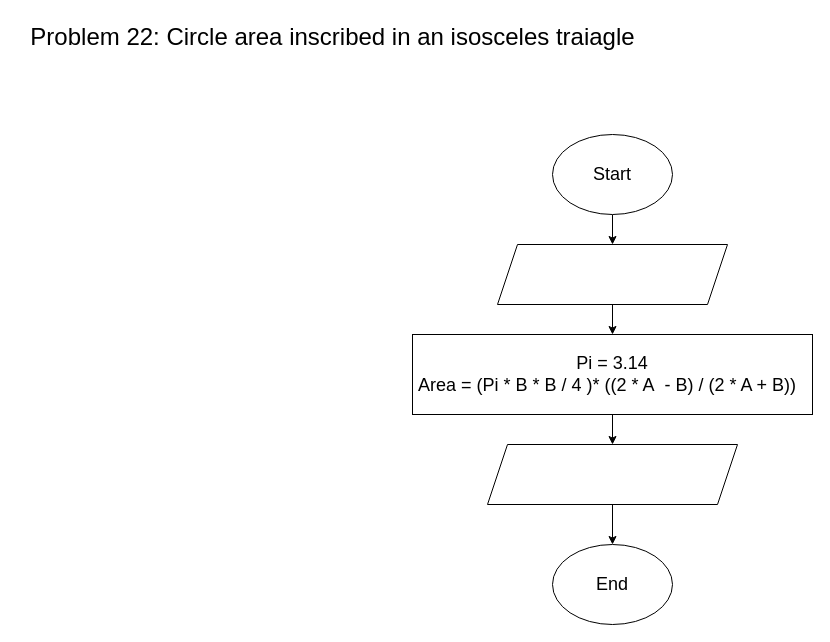
Some shapes in this 830 by 642 pixel diagram are drawn without their labels. The shapes that lost their labels are listed below. From the top down, each one's box as (x1, y1, x2, y2) in pixels, then its label:
(496, 244, 728, 304): Read A, B
(486, 444, 738, 504): Print Area
